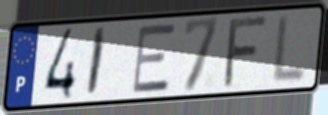4: (42, 26, 79, 103)
7: (182, 15, 223, 96)
E: (130, 21, 177, 96)
F: (220, 14, 272, 92)
I: (84, 26, 109, 100)
L: (268, 13, 308, 87)
